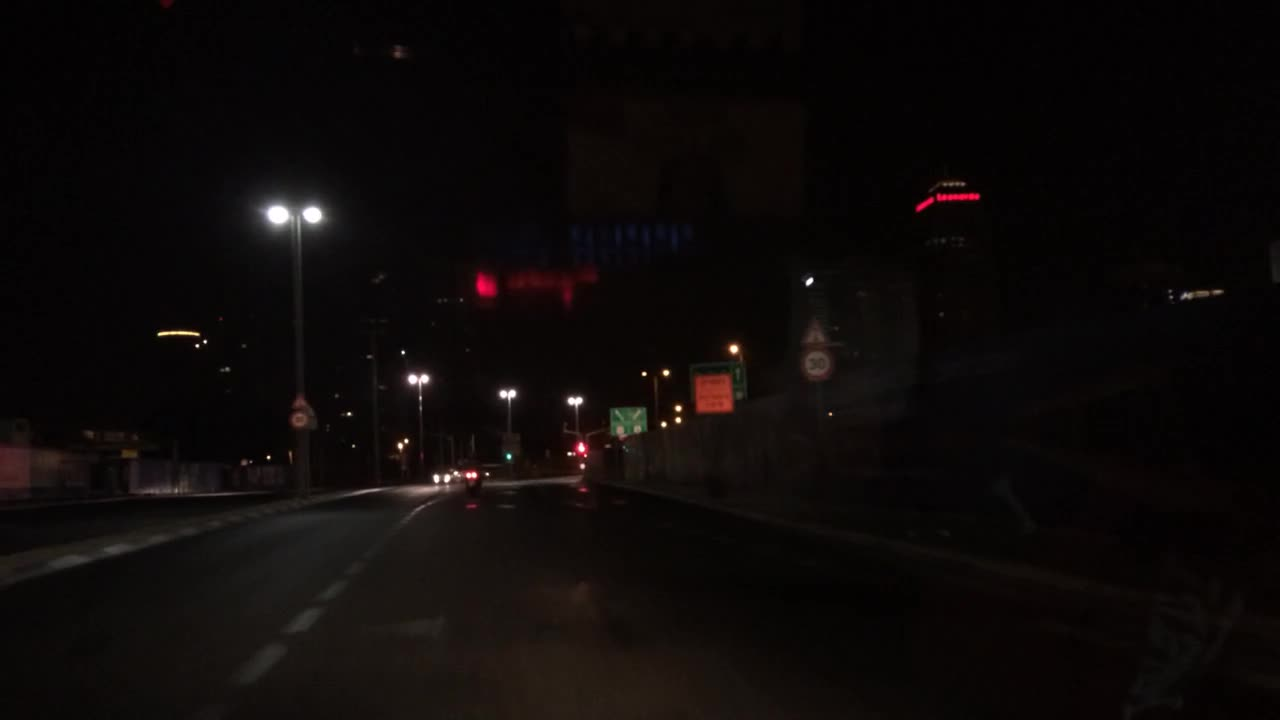car: (427, 468, 457, 485)
motor: (463, 467, 479, 490)
rider: (463, 450, 482, 470)
traffic light: (572, 438, 589, 457)
traffic sign: (691, 361, 743, 399), (693, 375, 734, 411), (609, 407, 649, 436), (802, 349, 831, 379), (800, 318, 828, 345), (289, 411, 306, 427), (293, 393, 307, 408)
